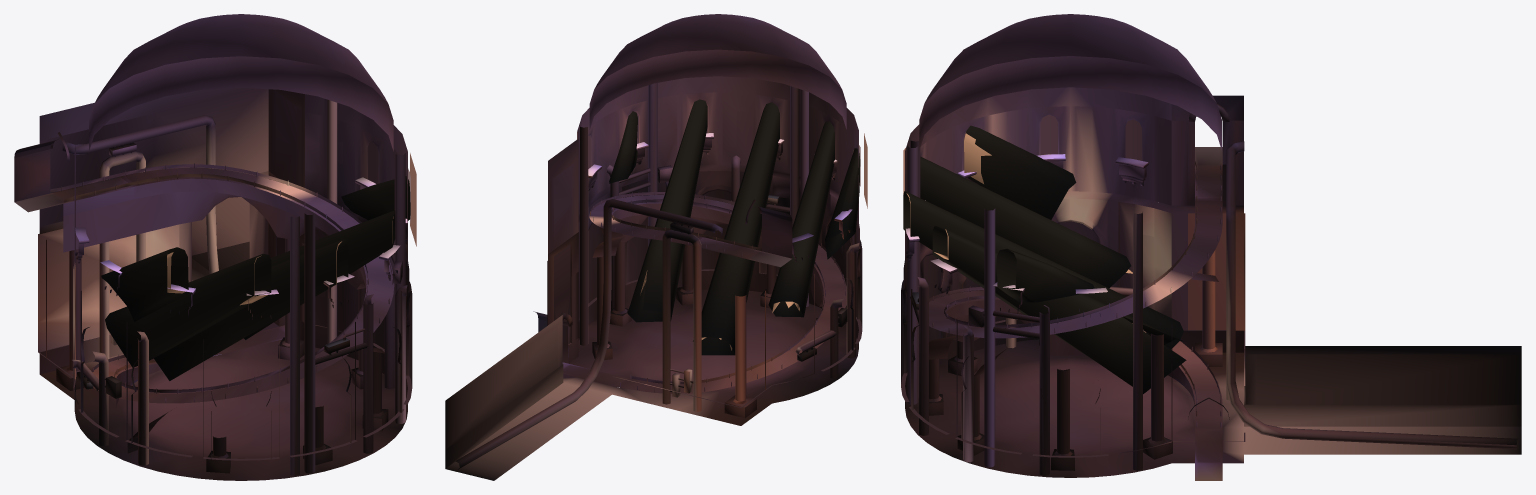
File: 08Spiral.gltf
3 renders of one model, left to right at view 1: azimuth 30°, elevation 25°; view 2: azimuth 150°, elevation 25°; view 3: azimuth 270°, elevation 25°, orthographic. The views are drawn at different scales.
Parts seen in each view (by area): view 1: stg033_g18_Mesh_0001, stg033_o18_Mesh_0025, stg033_o18_Mesh_0006, stg033_o18_Mesh_0010, stg033_o18_Mesh_0037, stg033_o18_Mesh_0013, stg033_o18_Mesh_0004, stg033_o18_Mesh_0042, stg033_o18_Mesh_0038, stg033_o18_Mesh_0035, stg033_o18_Mesh_0019, stg033_o18_Mesh_0008 (+19 smaller); view 2: stg033_g18_Mesh_0001, stg033_o18_Mesh_0025, stg033_o18_Mesh_0038, stg033_o18_Mesh_0006, stg033_o18_Mesh_0037, stg033_o18_Mesh_0010, stg033_o18_Mesh_0013, stg033_o18_Mesh_0019, stg033_o18_Mesh_0042, stg033_o18_Mesh_0036, stg033_o18_Mesh_0004, stg033_o18_Mesh_0005 (+16 smaller); view 3: stg033_g18_Mesh_0001, stg033_o18_Mesh_0025, stg033_o18_Mesh_0038, stg033_o18_Mesh_0006, stg033_o18_Mesh_0036, stg033_o18_Mesh_0010, stg033_o18_Mesh_0019, stg033_o18_Mesh_0013, stg033_o18_Mesh_0042, stg033_o18_Mesh_0005, stg033_o18_Mesh_0004, stg033_o18_Mesh_0008 (+16 smaller).
Boxes of the visible parts, x1,y1,x2,y2 form: stg033_g18_Mesh_0001: (101,176,410,380); stg033_o18_Mesh_0025: (62,99,407,475); stg033_o18_Mesh_0006: (38,88,412,387); stg033_o18_Mesh_0010: (50,56,393,161); stg033_o18_Mesh_0037: (38,89,398,397); stg033_o18_Mesh_0013: (94,14,387,103); stg033_o18_Mesh_0004: (74,347,407,480); stg033_o18_Mesh_0042: (92,167,394,403); stg033_o18_Mesh_0038: (16,184,341,452); stg033_o18_Mesh_0035: (63,191,365,407); stg033_o18_Mesh_0019: (74,89,407,458); stg033_o18_Mesh_0008: (39,171,407,383); stg033_g18_Mesh_0001: (609,99,860,355); stg033_o18_Mesh_0025: (455,83,859,469); stg033_o18_Mesh_0038: (446,243,799,480); stg033_o18_Mesh_0006: (554,92,862,318); stg033_o18_Mesh_0037: (548,111,862,384); stg033_o18_Mesh_0010: (559,49,846,326); stg033_o18_Mesh_0013: (594,14,841,88); stg033_o18_Mesh_0019: (548,92,858,390); stg033_o18_Mesh_0042: (589,195,846,393); stg033_o18_Mesh_0036: (445,325,557,449); stg033_o18_Mesh_0004: (578,289,858,403); stg033_o18_Mesh_0005: (445,233,858,468); stg033_g18_Mesh_0001: (903,125,1186,393); stg033_o18_Mesh_0025: (907,139,1517,475); stg033_o18_Mesh_0038: (979,147,1521,480); stg033_o18_Mesh_0006: (901,106,1226,383); stg033_o18_Mesh_0036: (1256,354,1521,404); stg033_o18_Mesh_0010: (919,56,1229,419); stg033_o18_Mesh_0019: (905,106,1243,455); stg033_o18_Mesh_0013: (925,14,1216,102); stg033_o18_Mesh_0042: (929,198,1222,429); stg033_o18_Mesh_0005: (905,319,1521,426); stg033_o18_Mesh_0004: (905,339,1171,477); stg033_o18_Mesh_0008: (906,191,1256,404).
Bounding box in the file's own units: 51.3 × 59.95 × 90.53.
